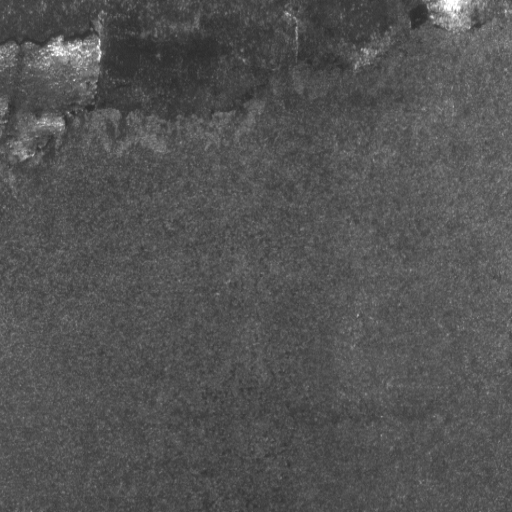qiaopi: (1, 27, 104, 172), (412, 1, 508, 35)
